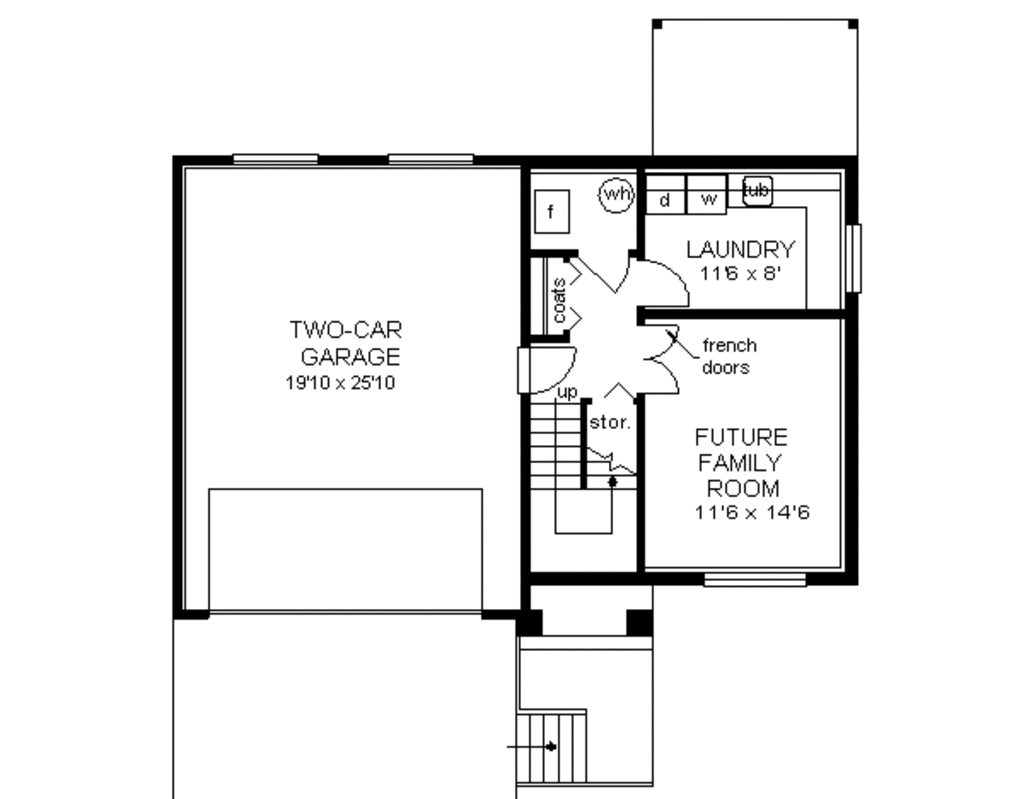door: (640, 312, 688, 397), (517, 338, 579, 396), (638, 254, 693, 313), (573, 245, 636, 296)
stairs: (521, 404, 658, 571), (498, 680, 603, 797)
window: (692, 554, 813, 591), (831, 215, 874, 304), (385, 140, 482, 178), (227, 146, 323, 171)
